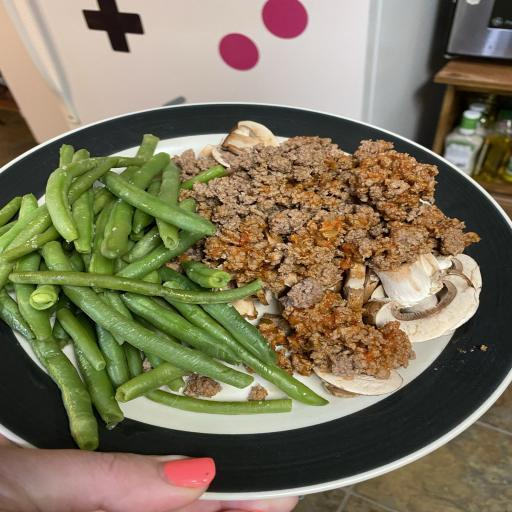buncis_rebus: (0, 124, 207, 453)
